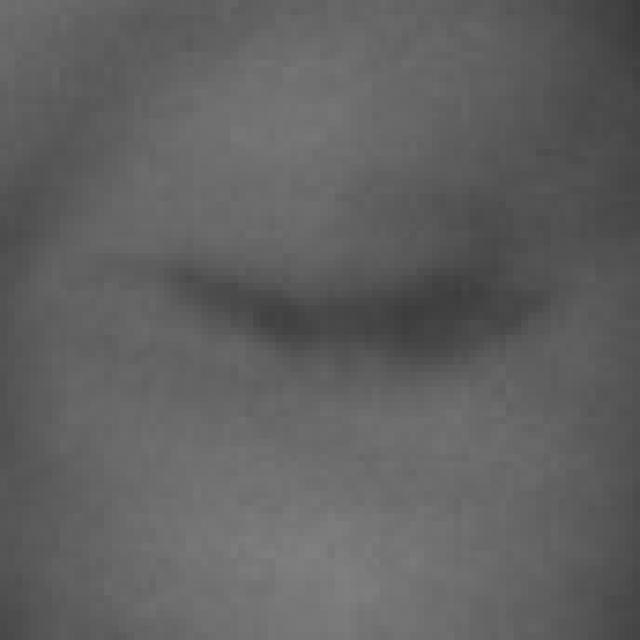Eyeclosed: (152, 97, 556, 512)
